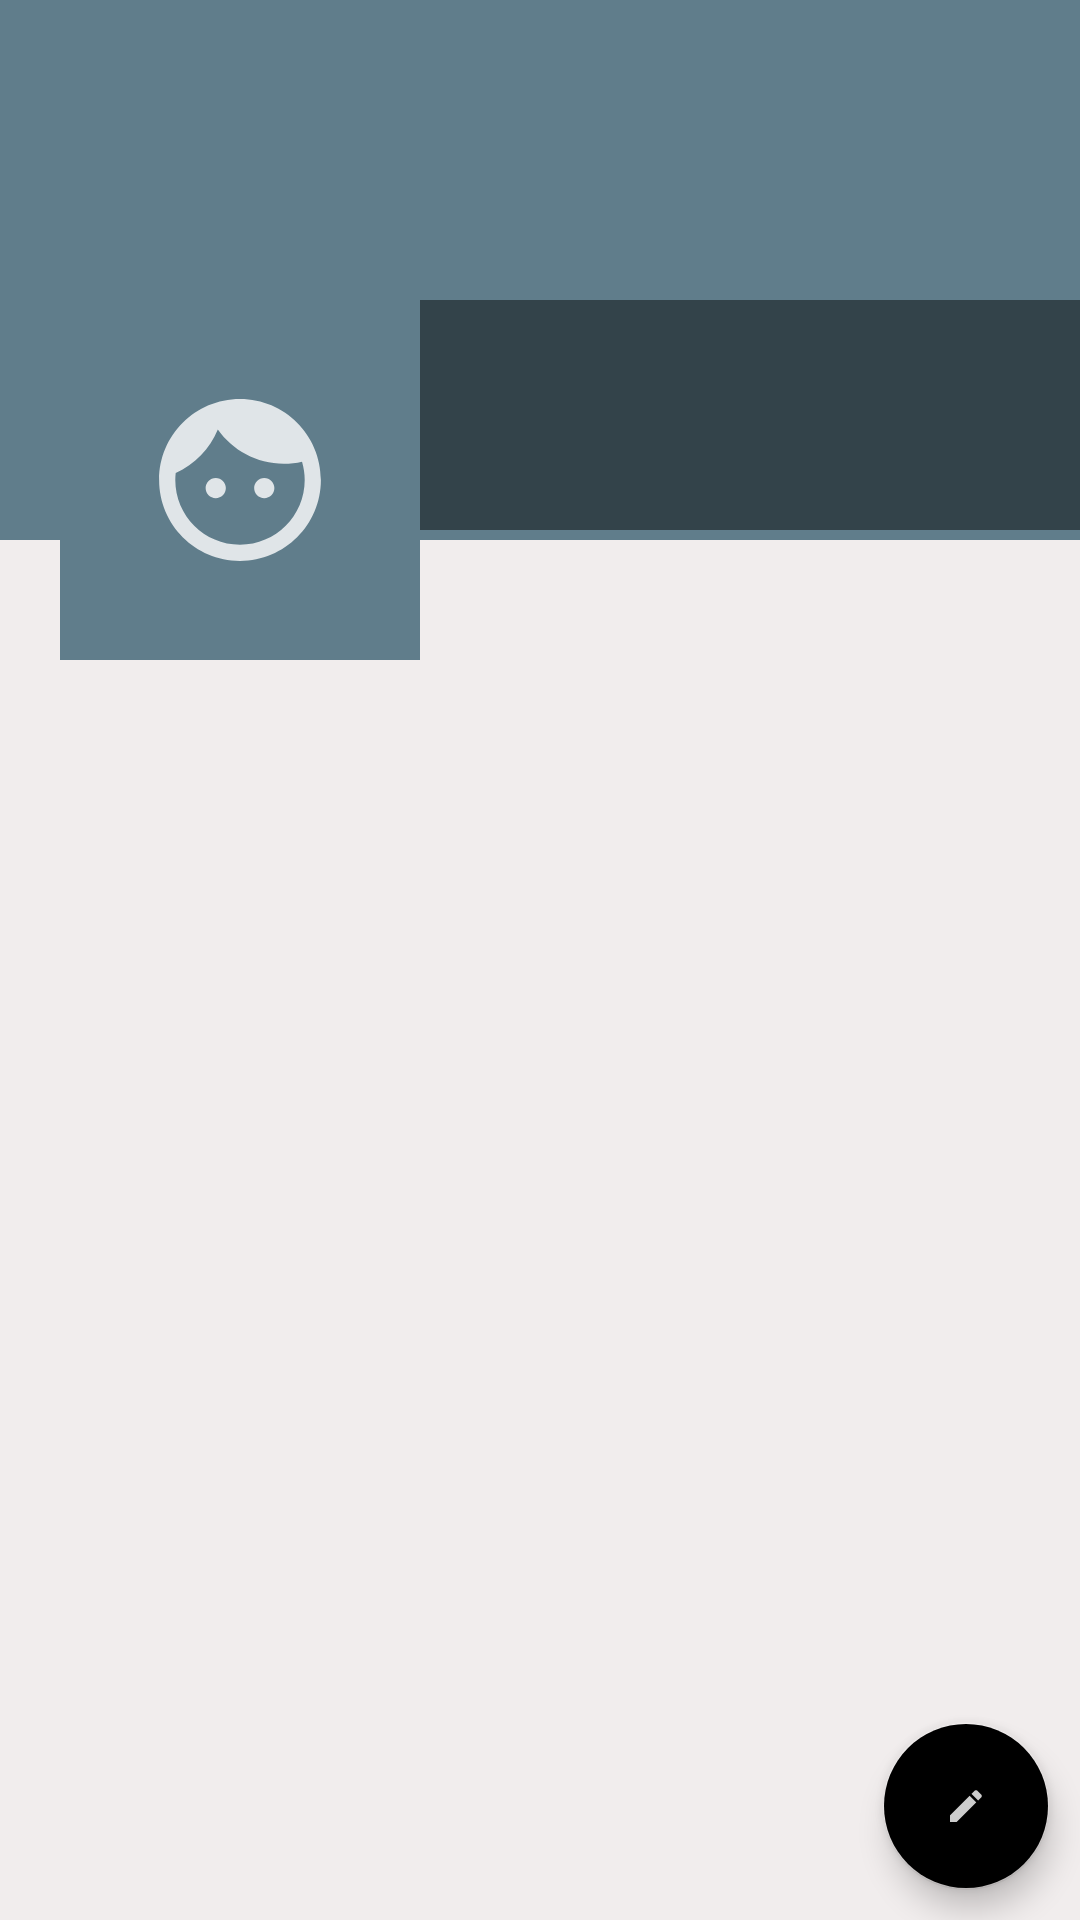

Screen size 1080*1920. Icon name, then its center in pixels as point (x, y):
edit: point (967, 1807)
